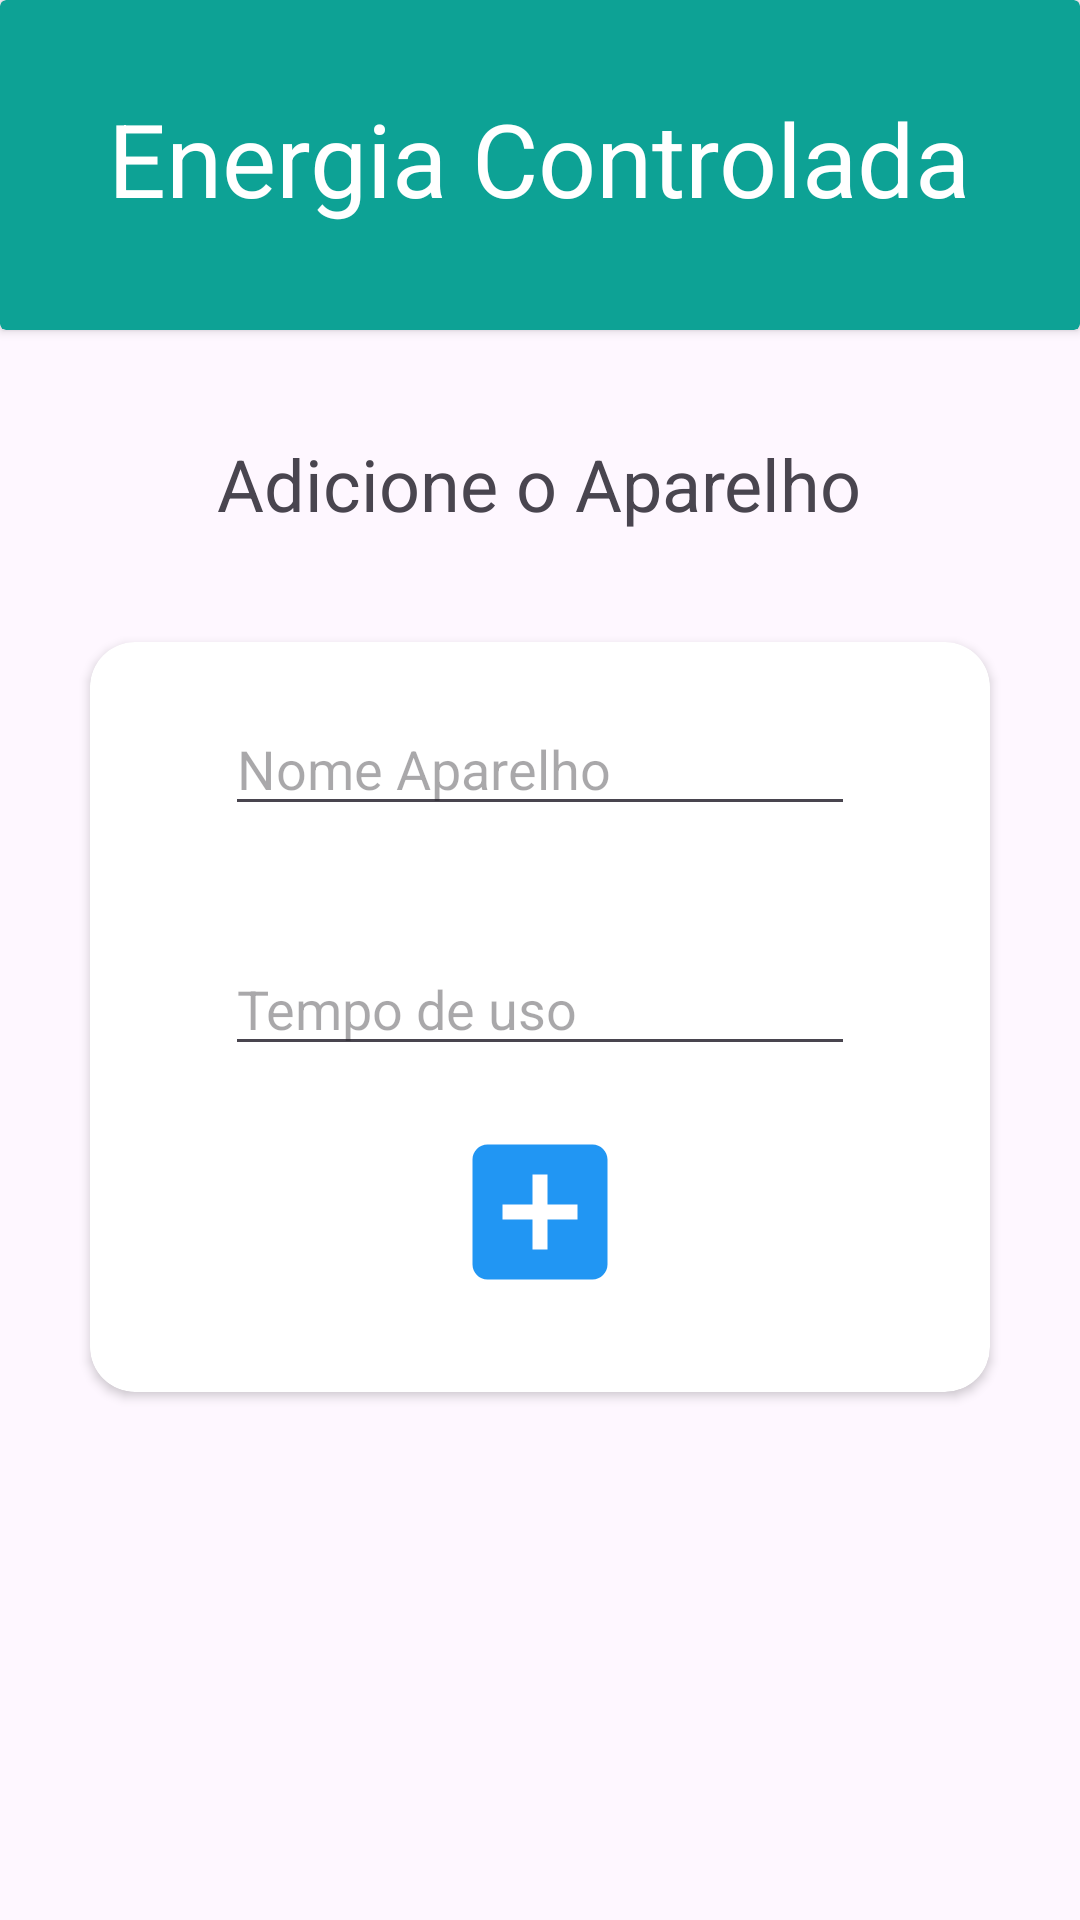

Locate icon controls on the screen. Image size 1080 x 1920, boxes as (x1, y1, x2, y2).
add: (472, 1144, 608, 1280)
